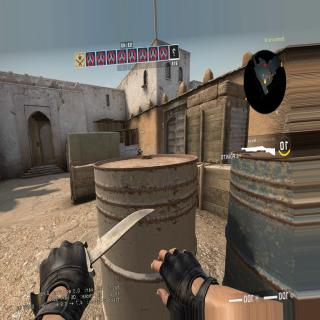CT-Body: (137, 148, 141, 156)
CT-Head: (138, 147, 140, 150)
